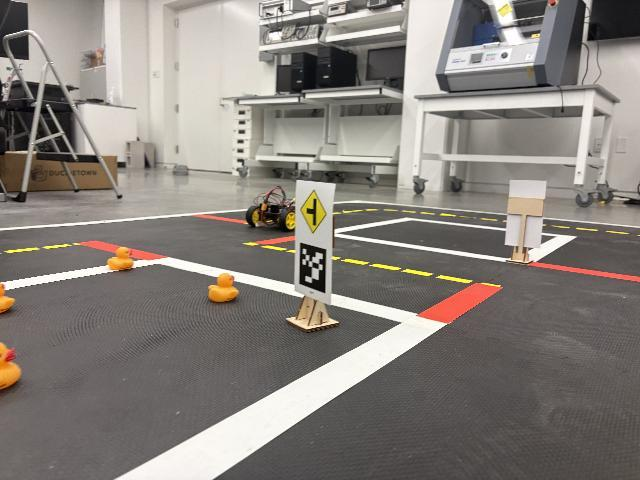Duck: (0, 341, 22, 392), (207, 273, 238, 303), (107, 247, 134, 271), (0, 282, 16, 314)
